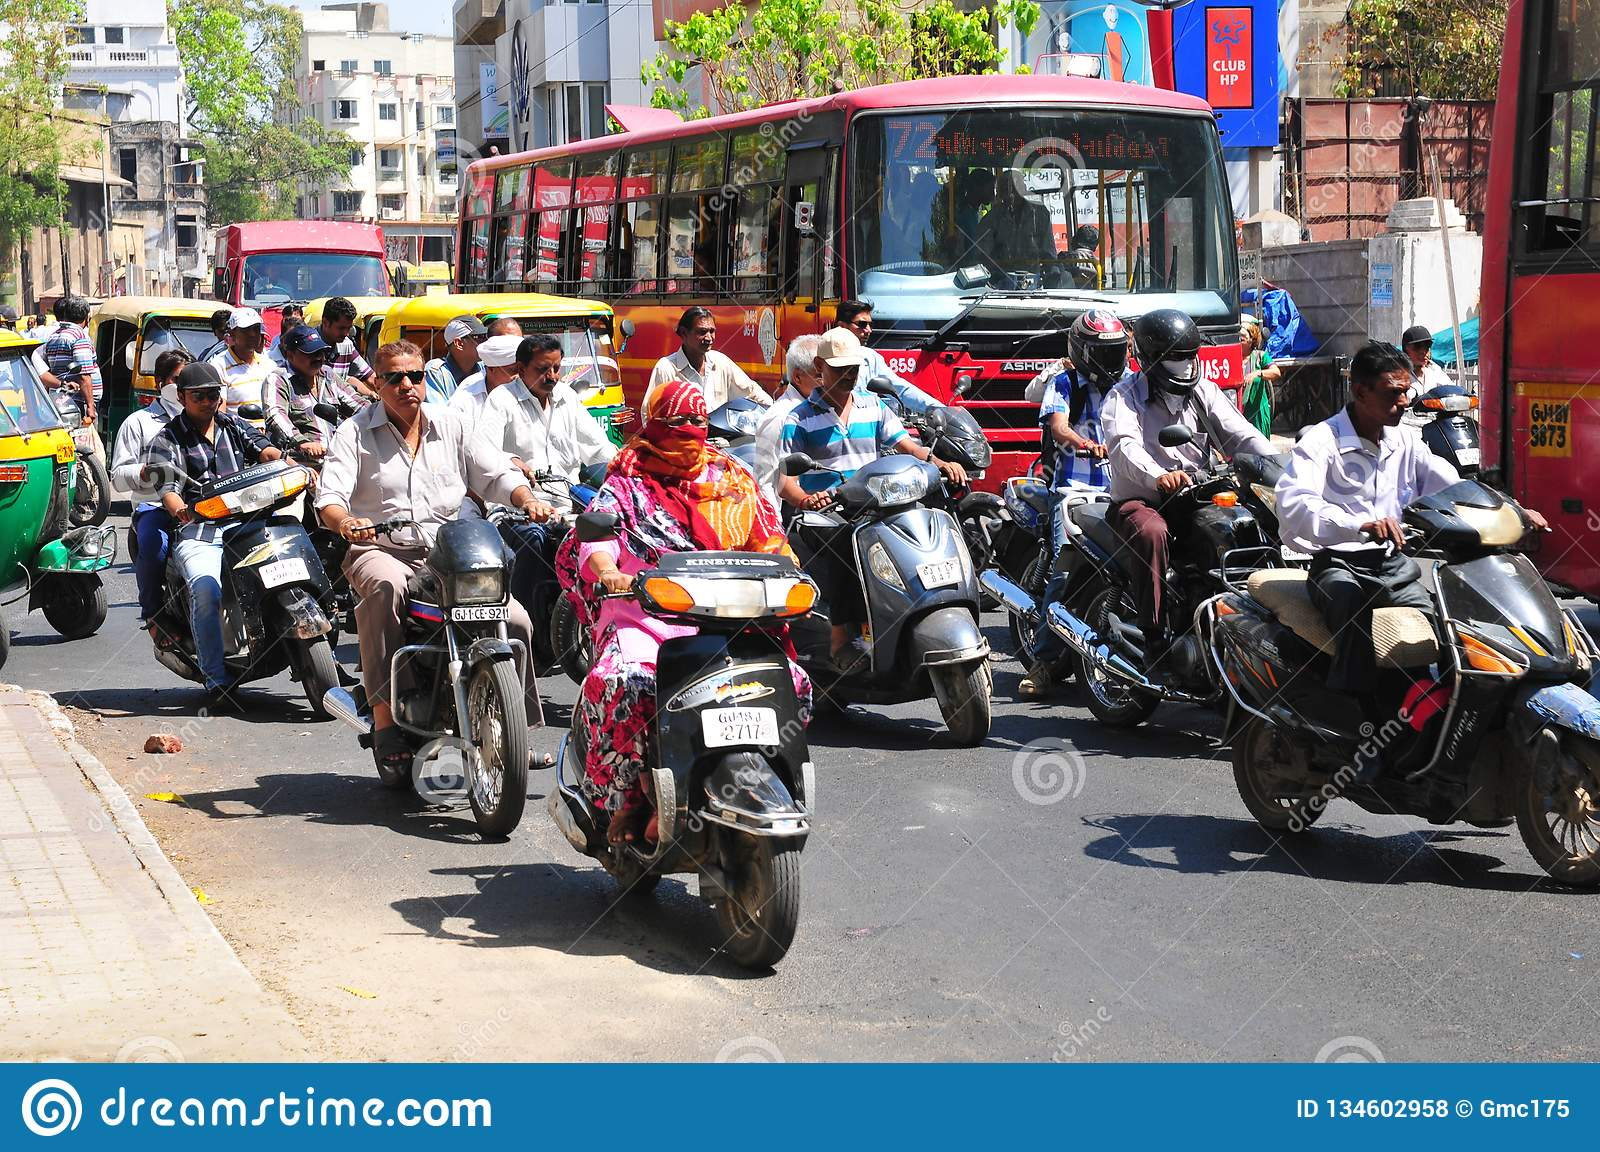two_wheeler: (1236, 333, 1600, 906), (544, 362, 834, 1019), (289, 332, 568, 861), (724, 322, 1014, 751), (111, 341, 354, 729)
